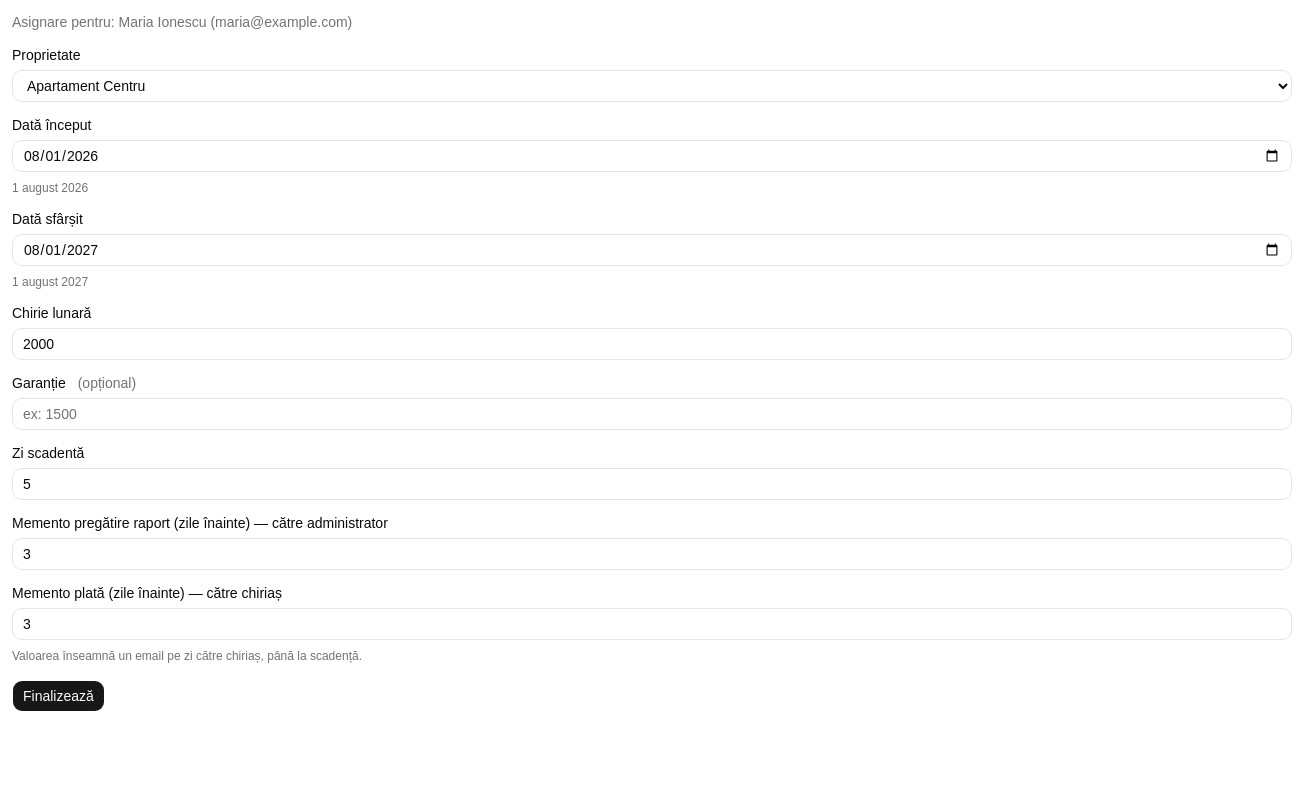
Test: StepContract — FR-TEN-27 (no tenancy on an unusable account) › an ARCHIVED account shows a terminal message and NO re-enable action
Click the button "Finalizează": (58,696) [12, 680, 105, 712]
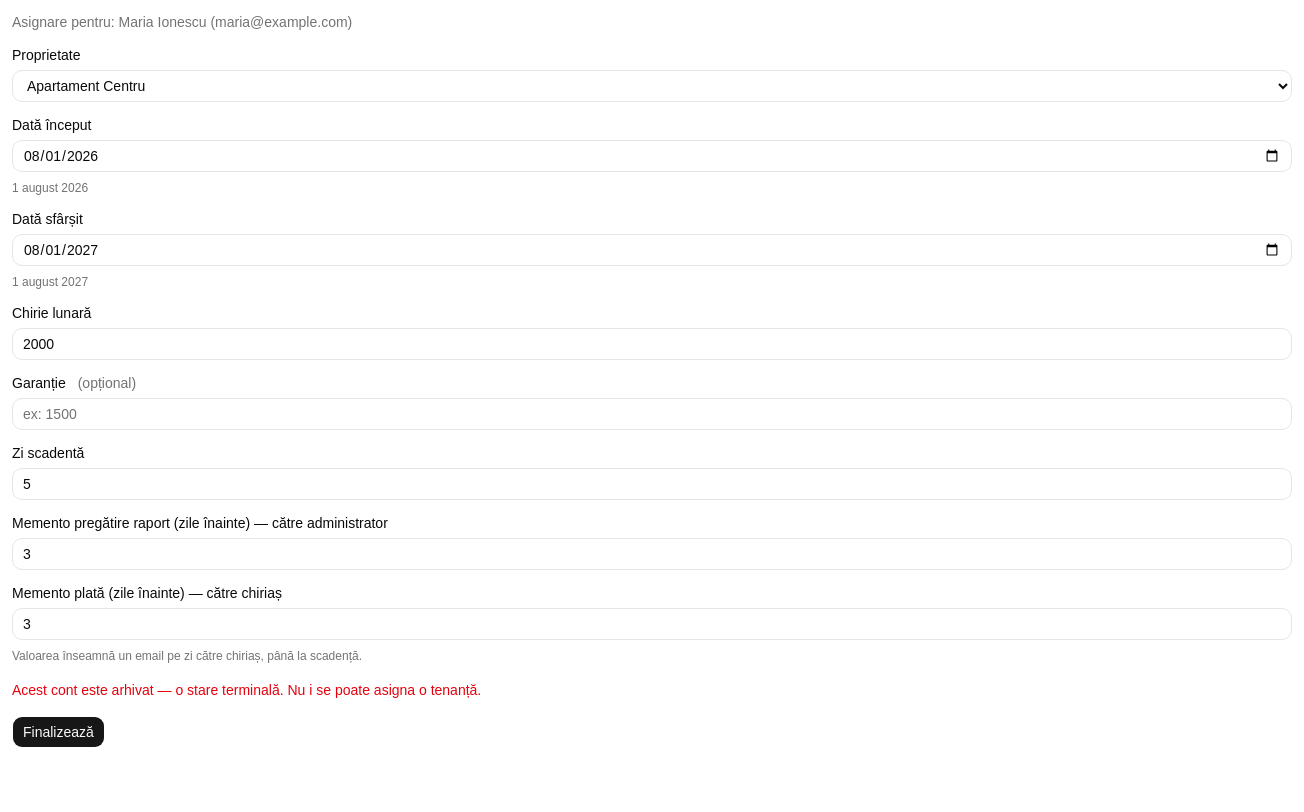
Result: the message shows "Acest cont este arhivat" at [12, 682, 481, 698]
